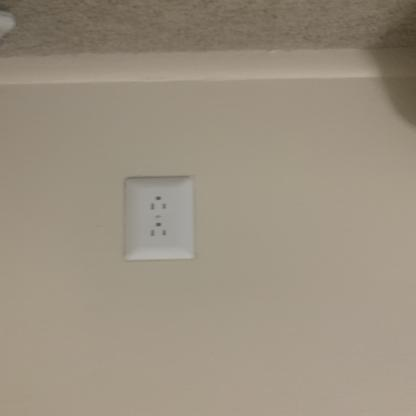OUTLET: (121, 177, 196, 261)
